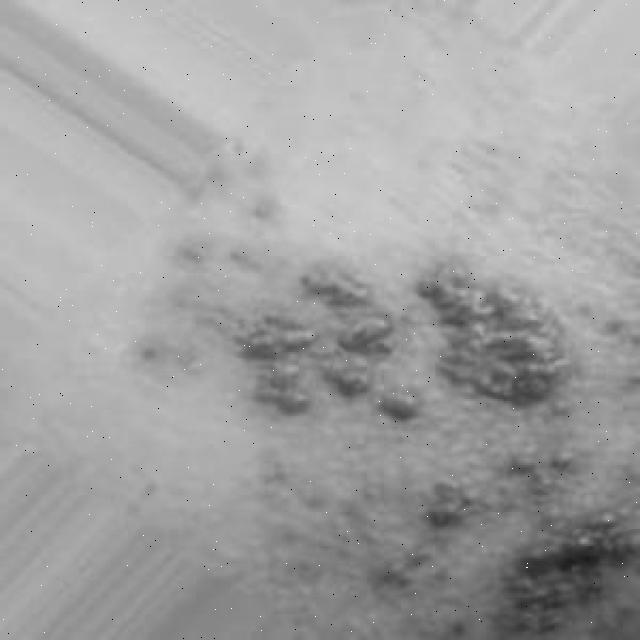Shingles: (233, 233, 640, 640)
